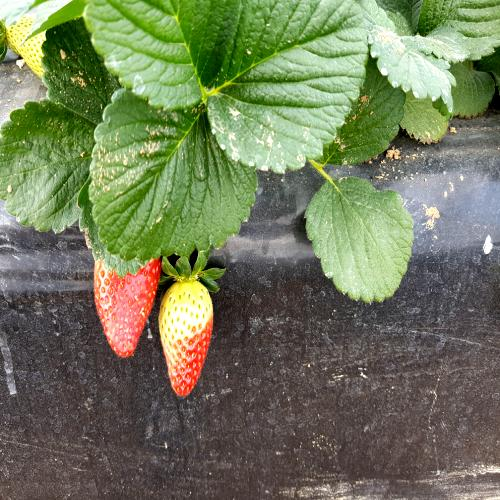partially-ripe: (162, 280, 214, 406)
ripe: (92, 234, 160, 355)
